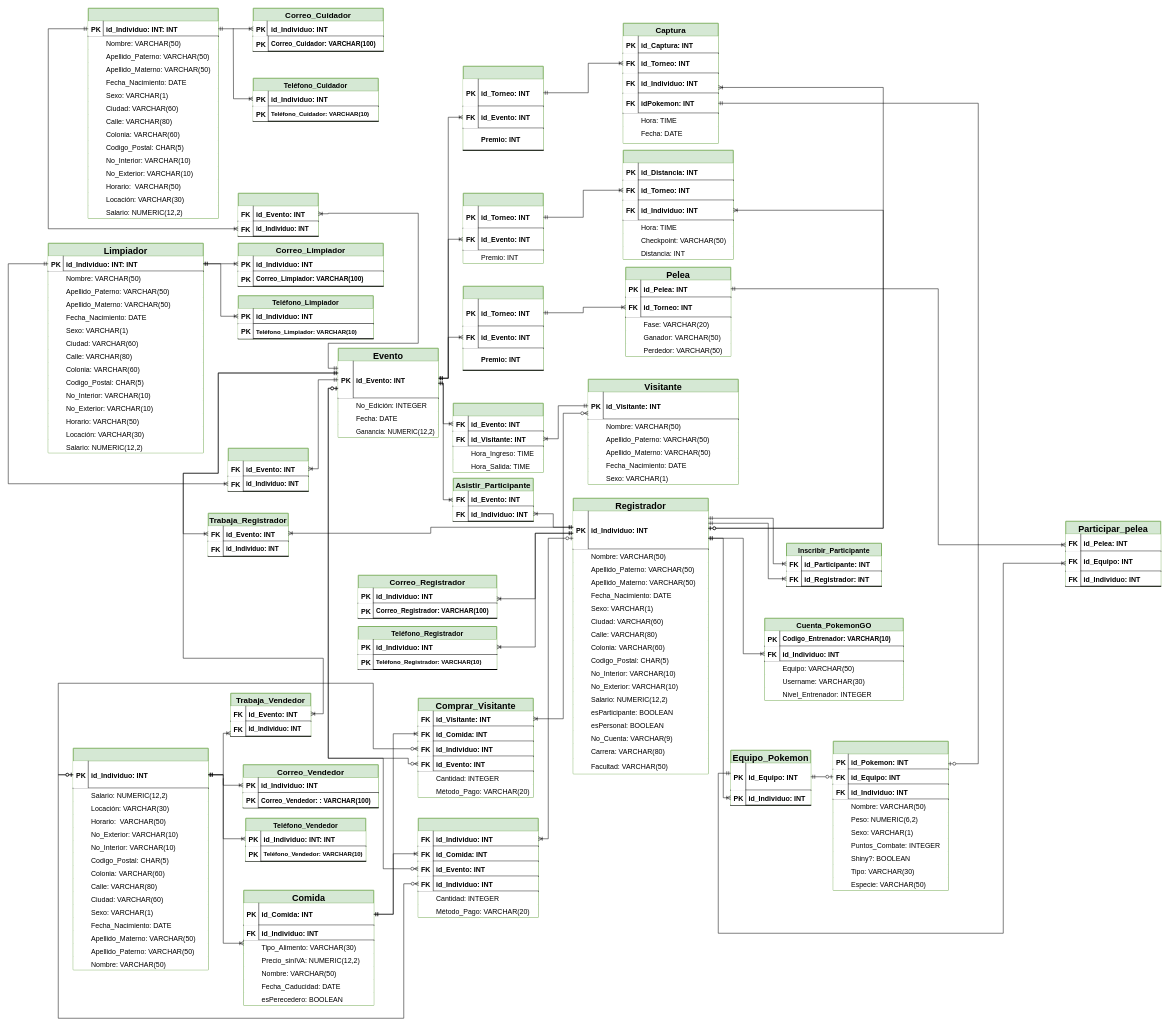
Image size: 1169x1027. Some labels were removed from this diagram. Here are the shapes that lost their labels. From the top down, the box of each, then its label:
(88, 8, 218, 218): Cuidador
(462, 66, 544, 150): Torneo_Shinys
(238, 192, 318, 236): Trabaja_Cuidador
(622, 150, 734, 260): Distancia_Recorrida
(462, 192, 544, 264): Torneo_Distancia
(462, 286, 544, 370): Torneo_Pelea
(452, 402, 544, 472): Asistir_Visitante
(228, 448, 308, 492): Trabaja_Limpiador
(832, 740, 948, 890): Pokémon
(72, 748, 208, 970): Vendedor
(418, 818, 538, 918): Comprar_Participante
